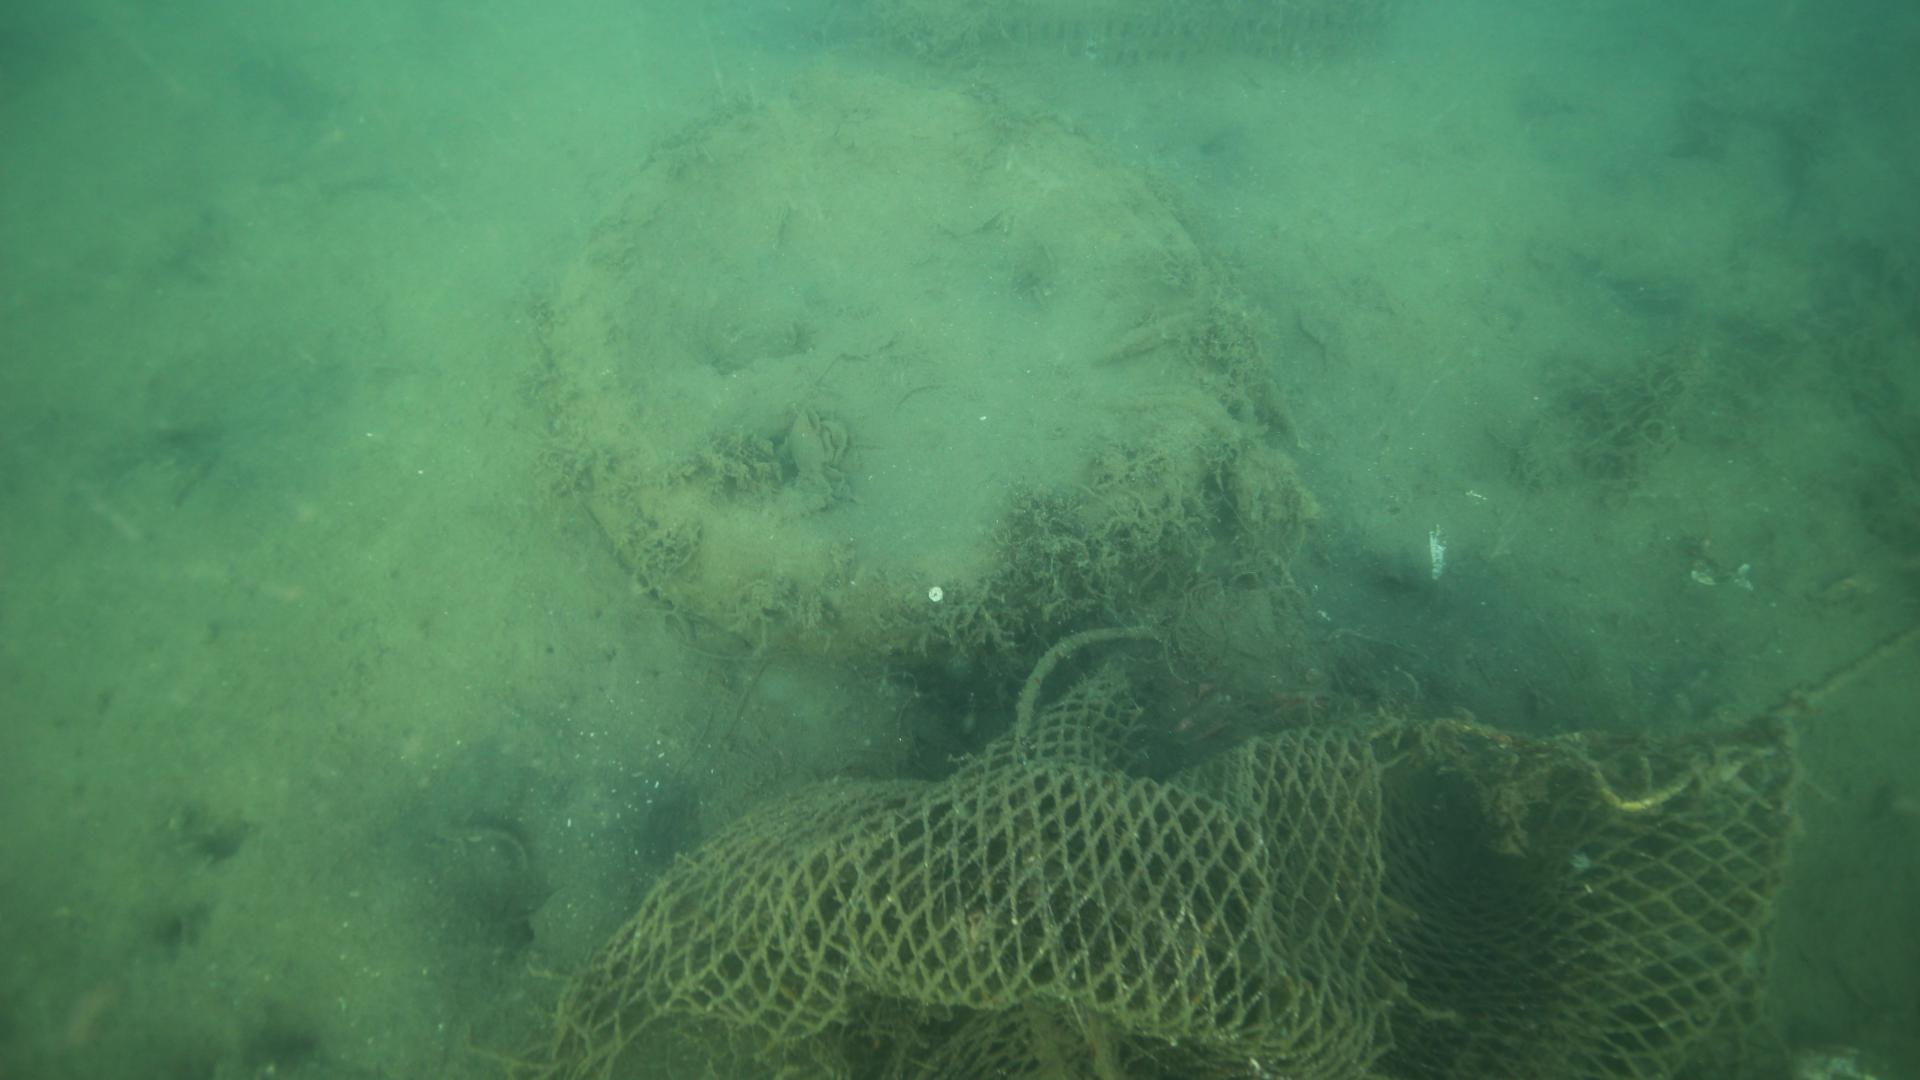fish net: (502, 670, 1799, 1080)
